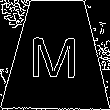M_N: (30, 29, 82, 80)
